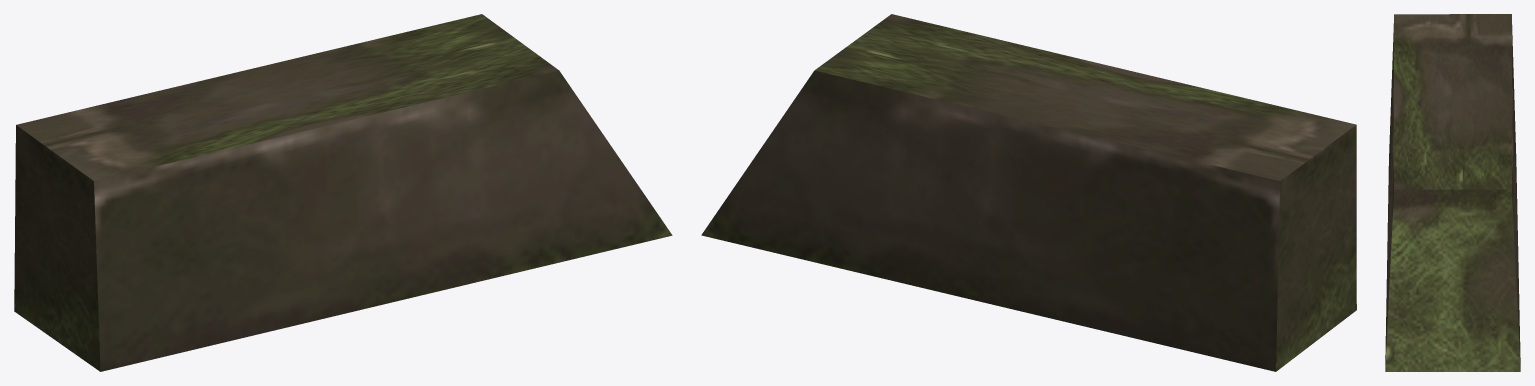
The model's file is yj_shuiqang_4.FBX.
3 views of the same model, side by side, from view 1: azimuth 30°, elevation 25°; view 2: azimuth 150°, elevation 25°; view 3: azimuth 270°, elevation 25° (orthographic). The views are drawn at different scales.
Parts seen in each view (by area): view 1: yj_shuiqang_4; view 2: yj_shuiqang_4; view 3: yj_shuiqang_4.
Part boxes in pixels (x1=…): yj_shuiqang_4: x1=14, y1=14, x2=672, y2=371; yj_shuiqang_4: x1=701, y1=14, x2=1356, y2=371; yj_shuiqang_4: x1=1385, y1=14, x2=1520, y2=371.
Size of the model in its own units: 14.78 by 4.67 by 3.97.
